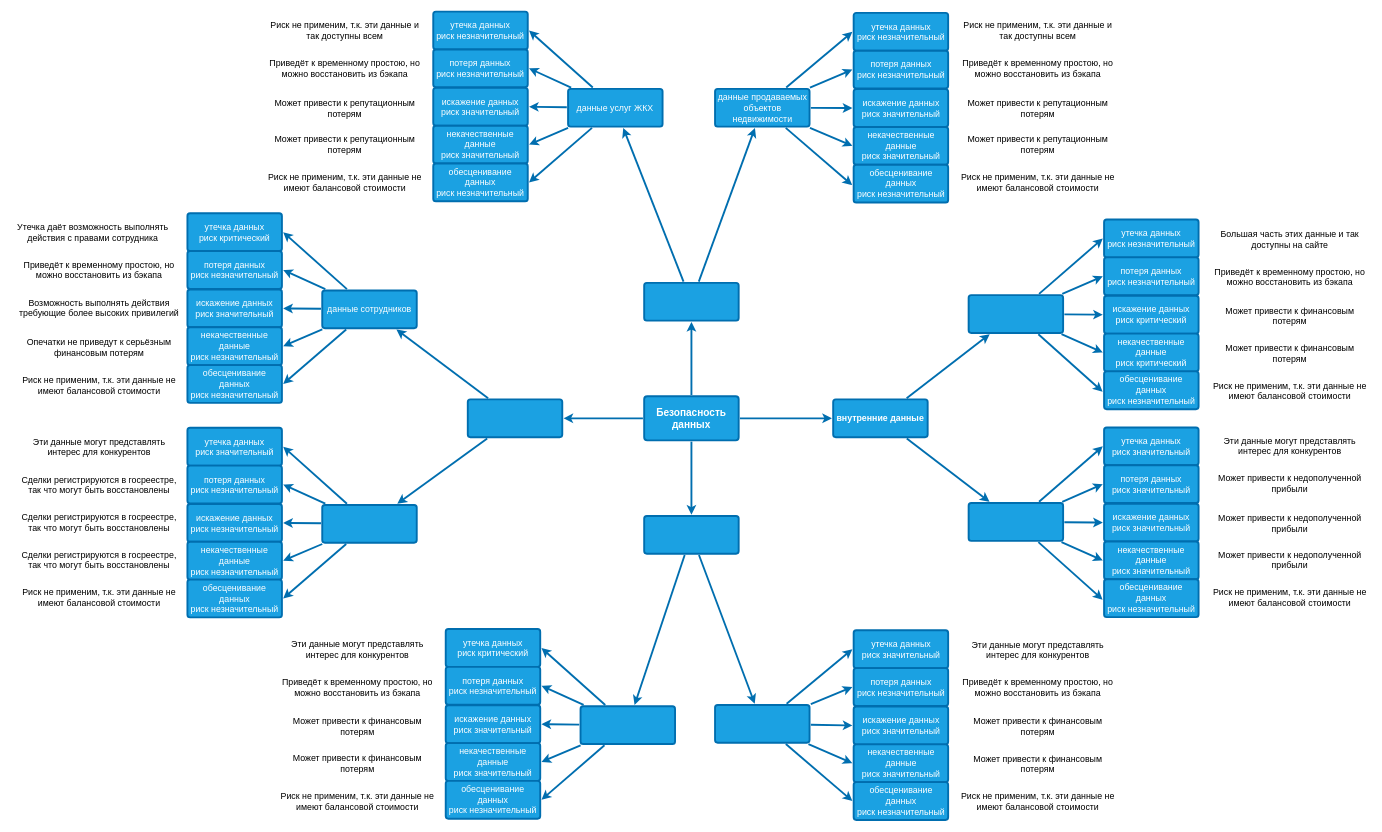
This 1382x832 diagram has some shape labels left out. The box of each missing label's shape, as (x1, y1, x2, y2) in pixels:
данные клиентов: (579, 705, 676, 745)
данные купленных объектов недвижимости: (714, 704, 810, 743)
данные онлайн туров: (967, 502, 1064, 541)
конфиденциальные данные: (643, 515, 739, 554)
публичные данные: (643, 282, 739, 321)
сделки с объектами недвижимости: (321, 504, 417, 543)
секретные данные: (467, 398, 563, 438)
цены объектов и услуг: (967, 294, 1064, 334)
